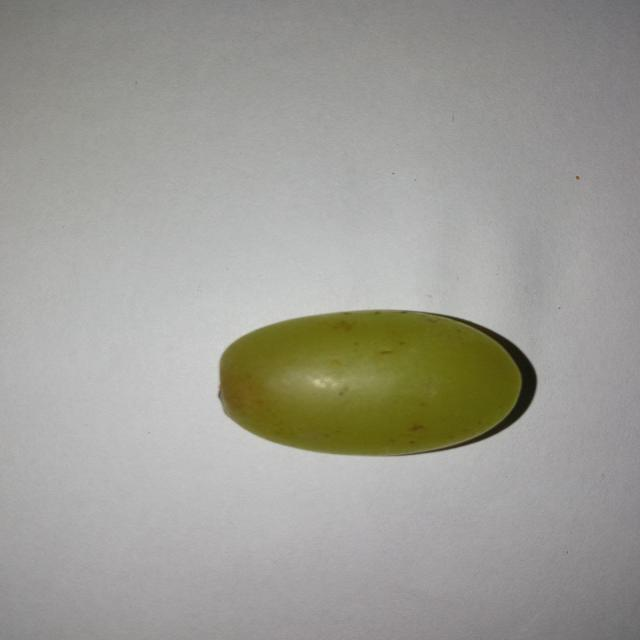fresh_grape: (220, 308, 525, 457)
